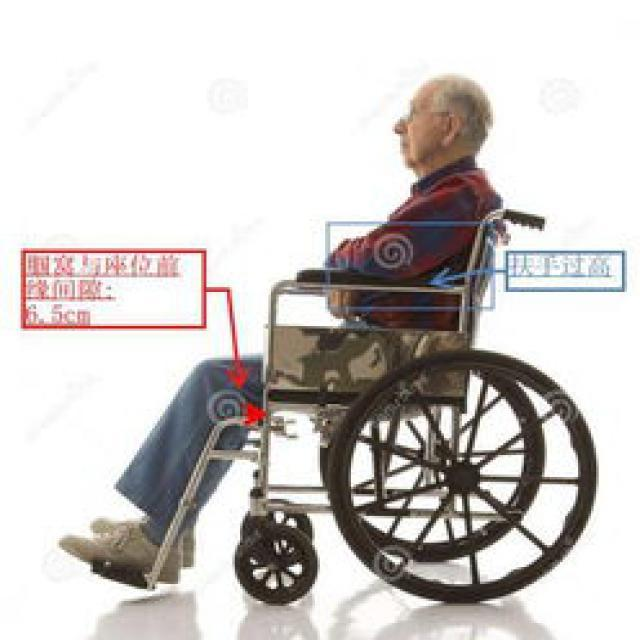peoplewithwheelchair: (60, 71, 600, 613)
